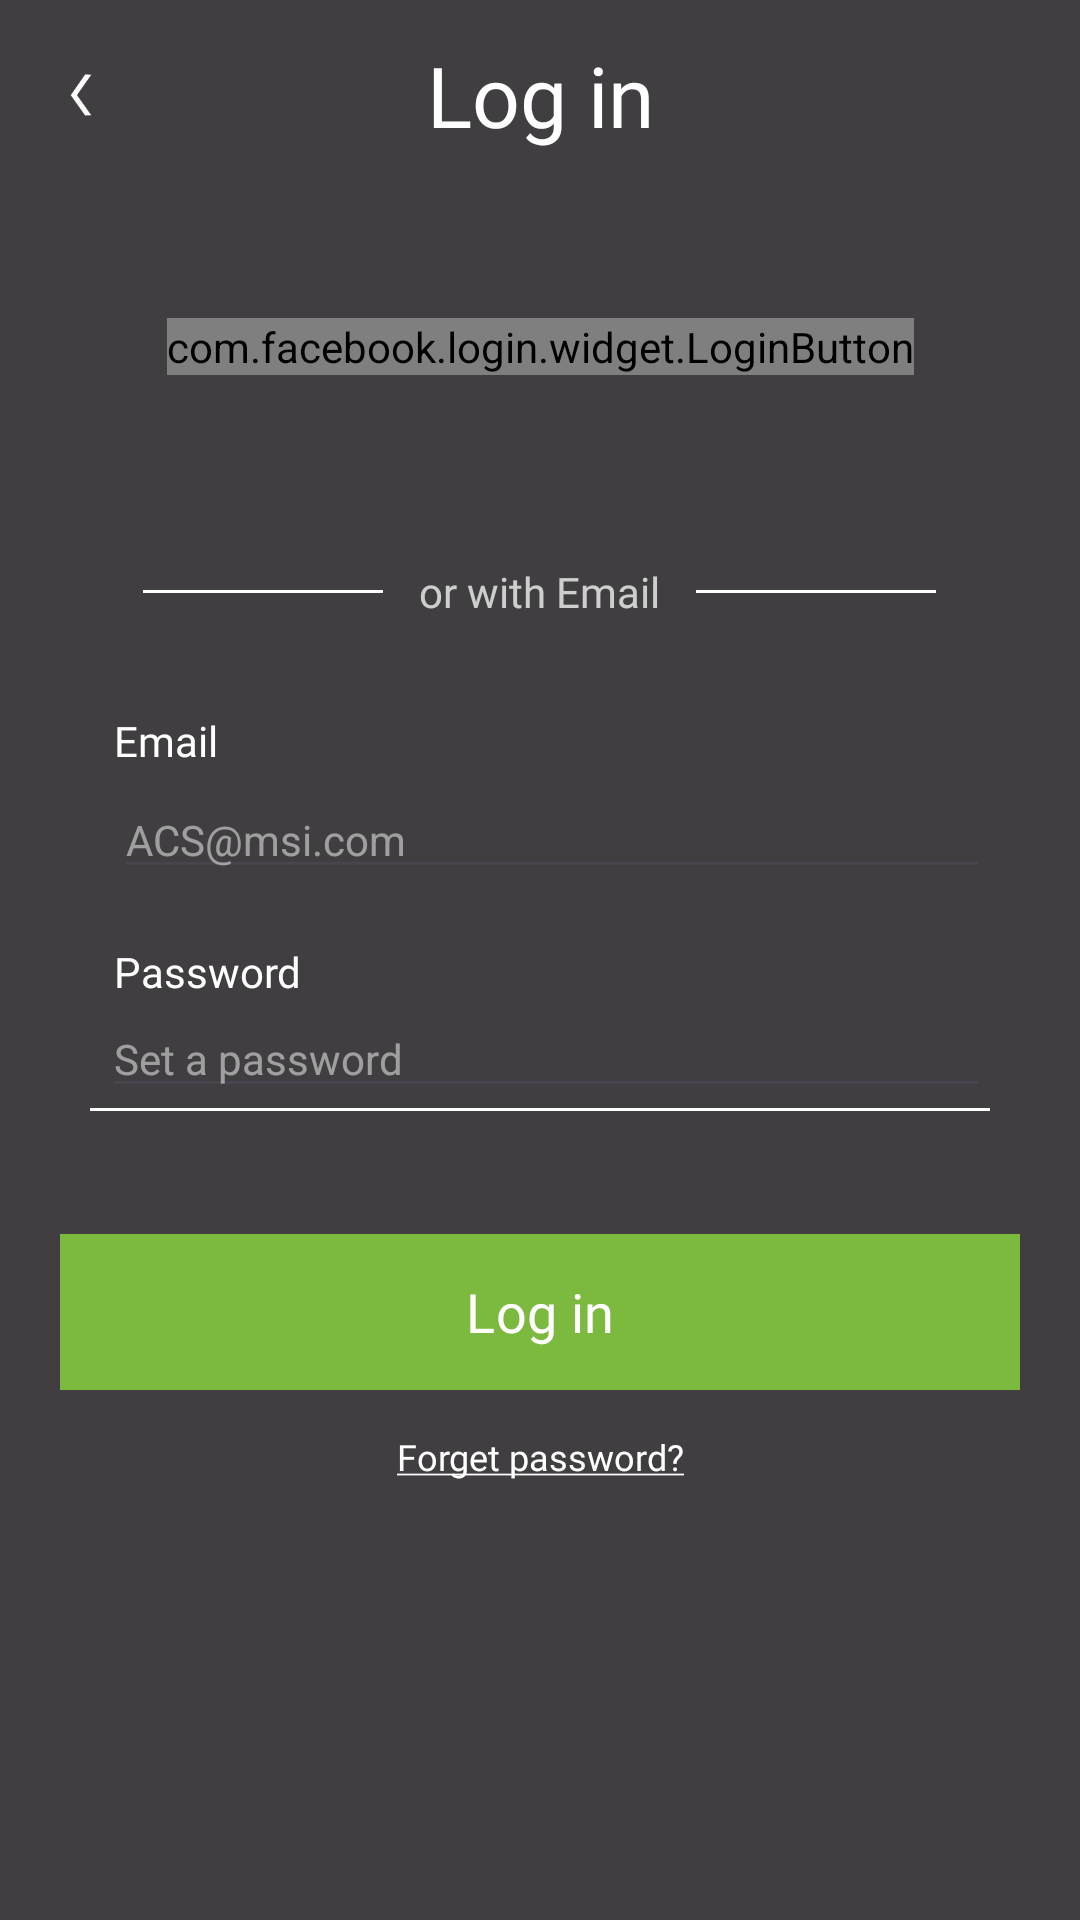

Where icons sit on this 1080×1920 app screen, as (x1, y1, x2, y2):
guest back: (71, 74, 91, 116)
